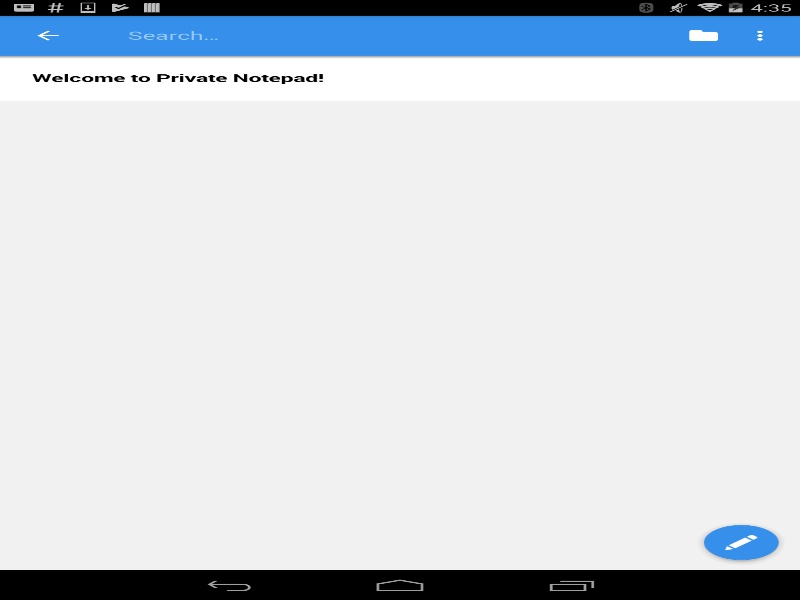Button: (688, 513, 794, 571), (10, 15, 85, 55)
Input: (117, 24, 522, 46)
